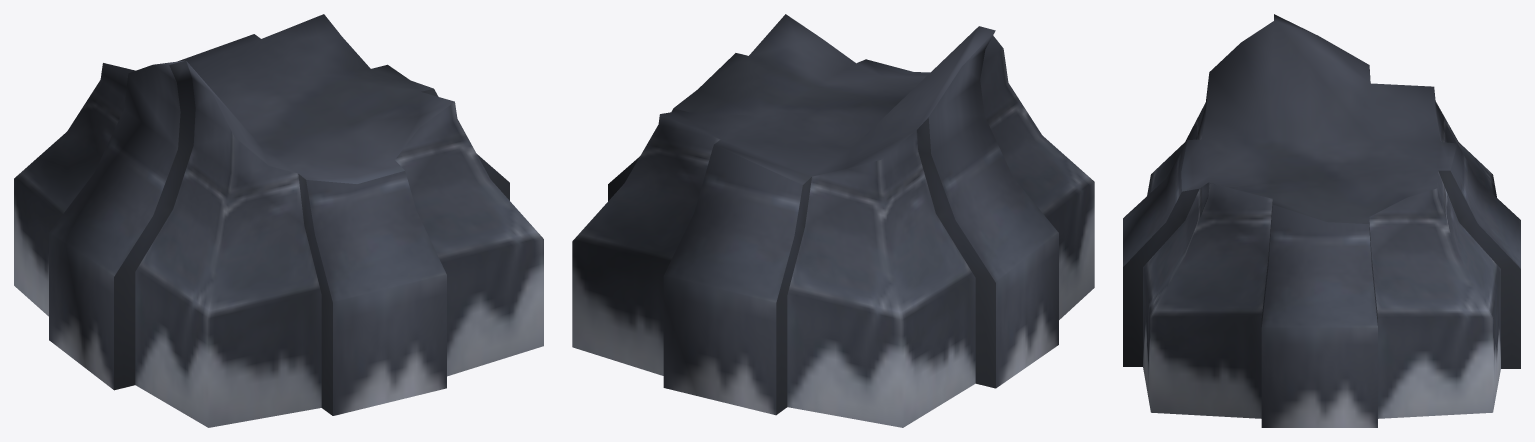
File: Beidaying_lanzhuzi02.FBX
The picture shows the model from 3 angles, left to right: view 1: azimuth 30°, elevation 25°; view 2: azimuth 150°, elevation 25°; view 3: azimuth 270°, elevation 25°; orthographic projection. The views are drawn at different scales.
Parts seen in each view (by area): view 1: Beidaying_lanzhuzi02; view 2: Beidaying_lanzhuzi02; view 3: Beidaying_lanzhuzi02.
Boxes of the visible parts, <box> form: Beidaying_lanzhuzi02: <box>14,14,543,427</box>; Beidaying_lanzhuzi02: <box>572,14,1094,427</box>; Beidaying_lanzhuzi02: <box>1123,14,1520,427</box>.
Size of the model in its own units: 96.73 by 96.1 by 72.21.
